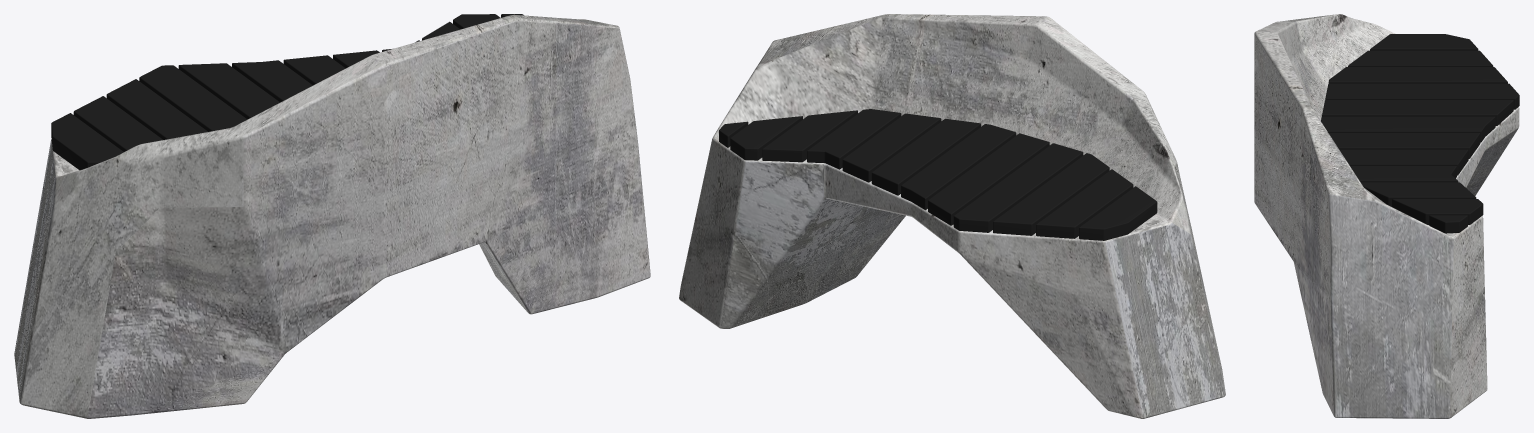
The model's file is StorageBench.glb.
3 views of the same model, side by side, from view 1: azimuth 30°, elevation 25°; view 2: azimuth 150°, elevation 25°; view 3: azimuth 270°, elevation 25° (orthographic). The views are drawn at different scales.
Parts seen in each view (by area): view 1: Bench; view 2: Bench; view 3: Bench.
Part boxes in pixels (x1=…): Bench: x1=14, y1=14, x2=650, y2=418; Bench: x1=679, y1=14, x2=1225, y2=418; Bench: x1=1254, y1=14, x2=1519, y2=418.
Size of the model in its own units: 1.31 by 0.6733 by 0.6161.
2 materials, 1 textured.
